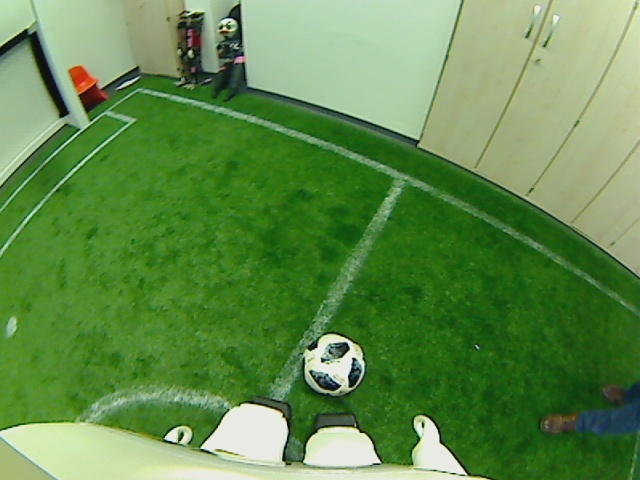ball: (302, 333, 366, 397)
